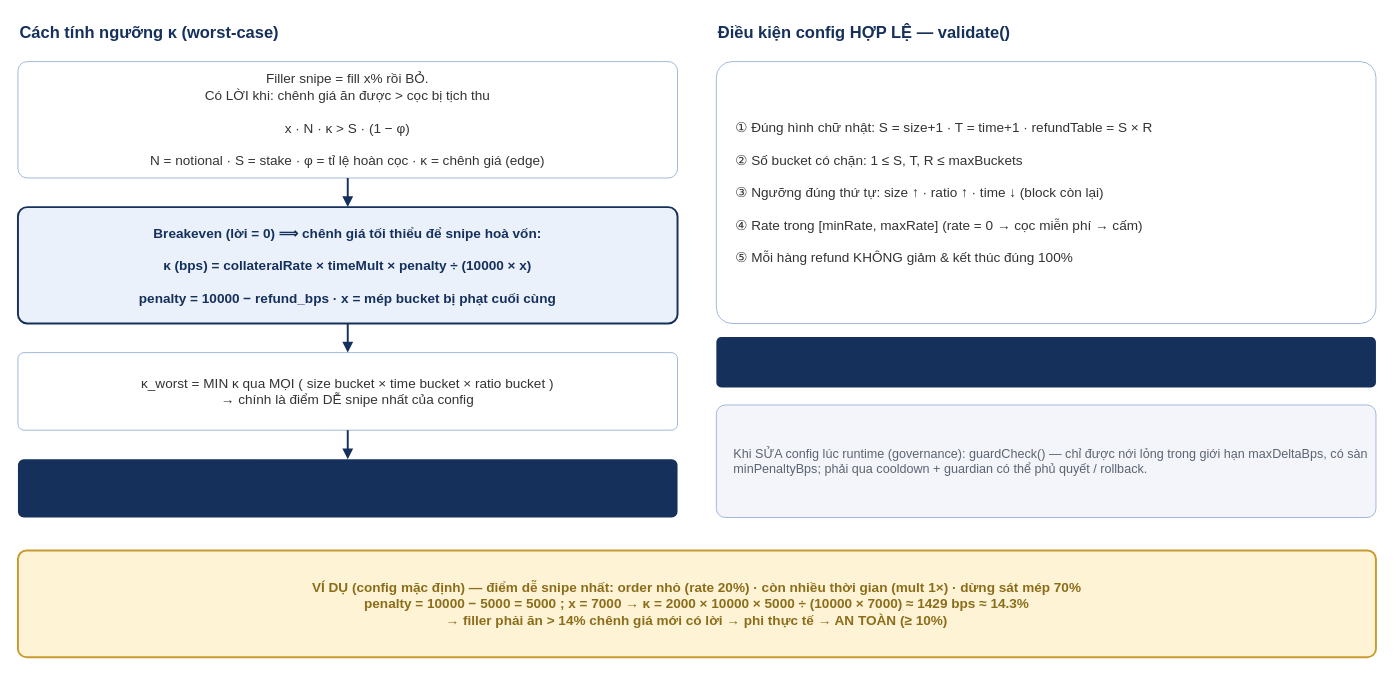
Image size: 1393x674. Some labels were removed from this diagram. Here are the shapes that lost their labels. From the top down, the centre of each, then its label:
[1045,362]: ⑥ κ_worst ≥ 10% — NGƯỠNG KINH TẾ (invariant quan trọng nhất)
[347,488]: ⟹ Config chỉ được chấp nhận nếu κ_worst ≥ 1000 bps (10%)
